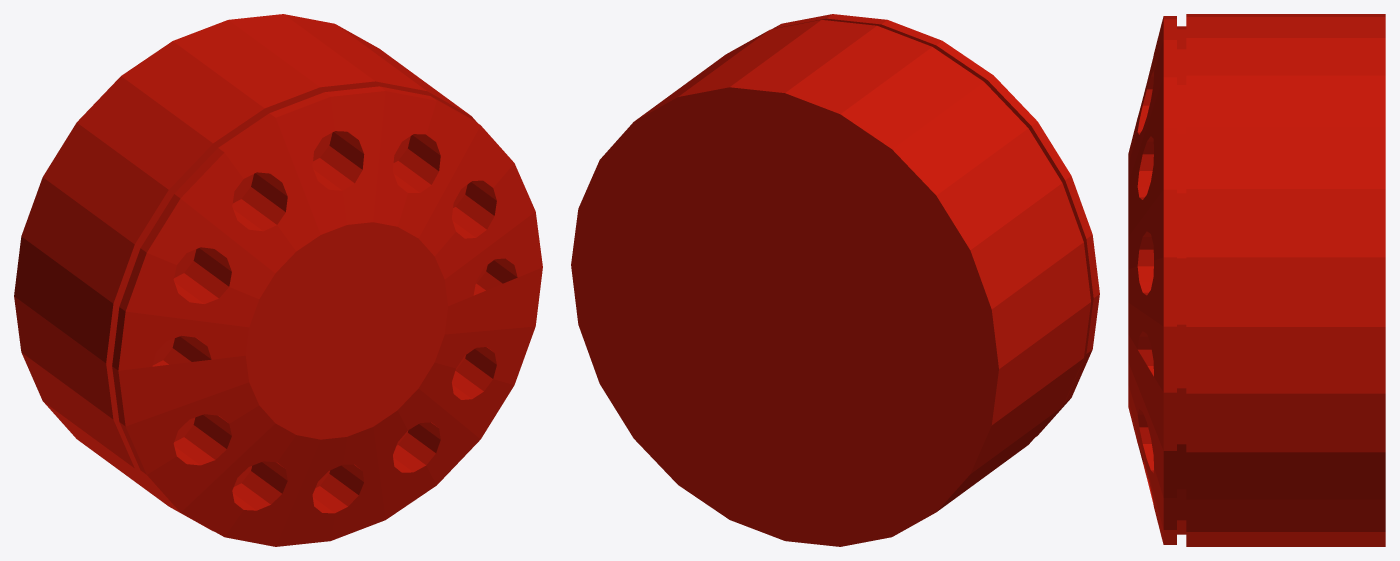
The model's file is Barrilet.obj.
3 renders of one model, left to right at view 1: azimuth 30°, elevation 25°; view 2: azimuth 150°, elevation 25°; view 3: azimuth 270°, elevation 25°, orthographic. The views are drawn at different scales.
Parts seen in each view (by area): view 1: Barrilet; view 2: Barrilet; view 3: Barrilet.
Part boxes in pixels (x1=…): Barrilet: x1=14, y1=14, x2=542, y2=546; Barrilet: x1=571, y1=14, x2=1099, y2=546; Barrilet: x1=1128, y1=14, x2=1385, y2=546.
Size of the model in its own units: 0.2537 by 0.2537 by 0.1221.
